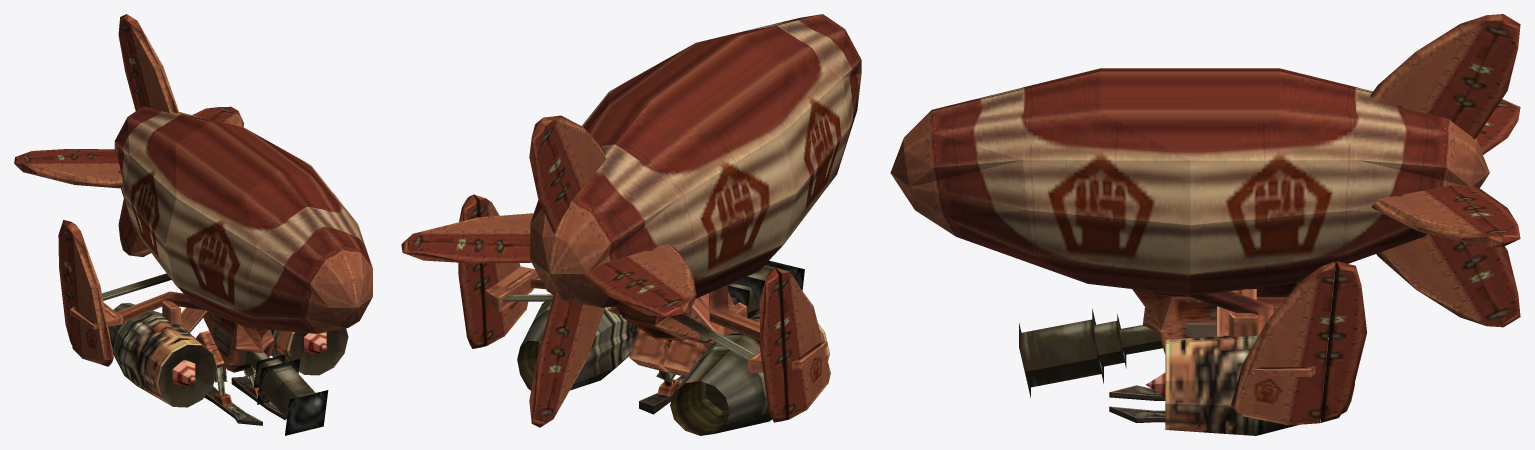
File: C1VSPYBLIMP.obj
3 renders of one model, left to right at view 1: azimuth 30°, elevation 25°; view 2: azimuth 150°, elevation 25°; view 3: azimuth 270°, elevation 25°, orthographic. The views are drawn at different scales.
Parts seen in each view (by area): view 1: Node 14, Node 4, Node 12, Node 0, Node 9, Node 1, Node 7, Node 8; view 2: Node 14, Node 12, Node 4, Node 10, Node 0, Node 1, Node 8, Node 9, Node 7; view 3: Node 14, Node 10, Node 1, Node 9, Node 0, Node 8, Node 7.
Boxes of the visible parts, x1,y1,x2,y2 form: Node 14: [14, 14, 372, 333]; Node 4: [108, 302, 216, 407]; Node 12: [58, 220, 123, 366]; Node 0: [102, 273, 273, 372]; Node 9: [245, 351, 328, 435]; Node 1: [270, 328, 348, 375]; Node 7: [195, 330, 262, 425]; Node 8: [231, 366, 285, 419]; Node 14: [401, 14, 861, 427]; Node 12: [747, 268, 830, 422]; Node 4: [670, 313, 829, 435]; Node 10: [458, 194, 537, 348]; Node 0: [502, 274, 759, 359]; Node 1: [517, 301, 639, 390]; Node 8: [629, 329, 685, 414]; Node 9: [727, 260, 804, 318]; Node 7: [663, 339, 707, 376]; Node 14: [890, 14, 1520, 327]; Node 10: [1231, 261, 1367, 425]; Node 1: [1146, 335, 1354, 435]; Node 9: [1019, 309, 1162, 397]; Node 0: [1132, 280, 1328, 354]; Node 8: [1109, 406, 1165, 422]; Node 7: [1109, 385, 1165, 400].
Size of the model in its own units: 10.26 by 11.54 by 16.66.
9 materials, 9 textured.
